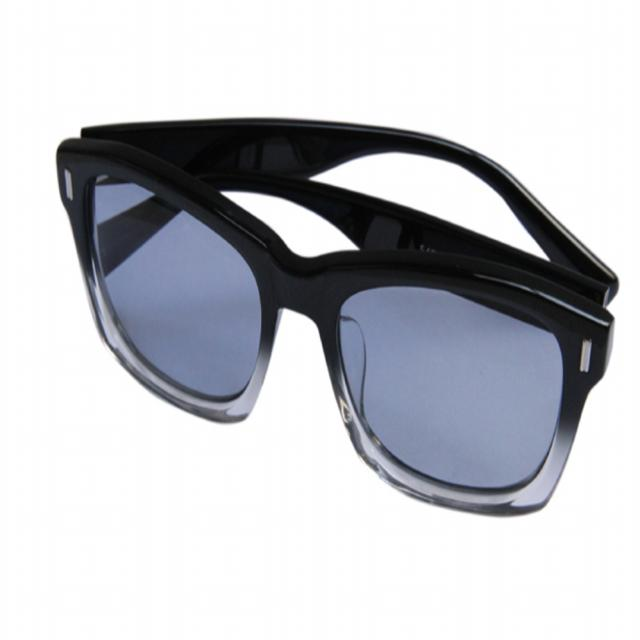Glasses: (41, 107, 528, 468)
